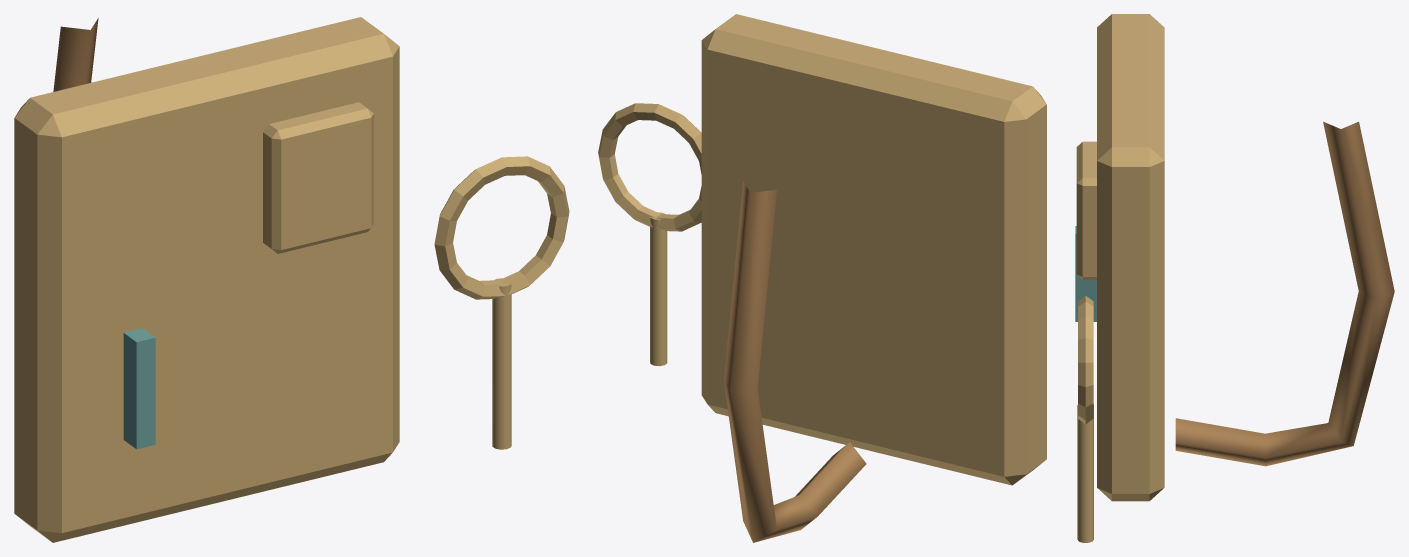
File: micro_mechanic.glb
3 views of the same model, side by side, from view 1: azimuth 30°, elevation 25°; view 2: azimuth 150°, elevation 25°; view 3: azimuth 270°, elevation 25° (orthographic). The views are drawn at different scales.
Parts seen in each view (by area): view 1: micro_mechanic; view 2: micro_mechanic; view 3: micro_mechanic.
Boxes of the visible parts, bbox=[...] form: micro_mechanic: bbox=[14, 17, 569, 542]; micro_mechanic: bbox=[598, 14, 1046, 542]; micro_mechanic: bbox=[1075, 14, 1394, 542].
Bounding box in the file's own units: 0.3279 × 0.2834 × 0.2128.
